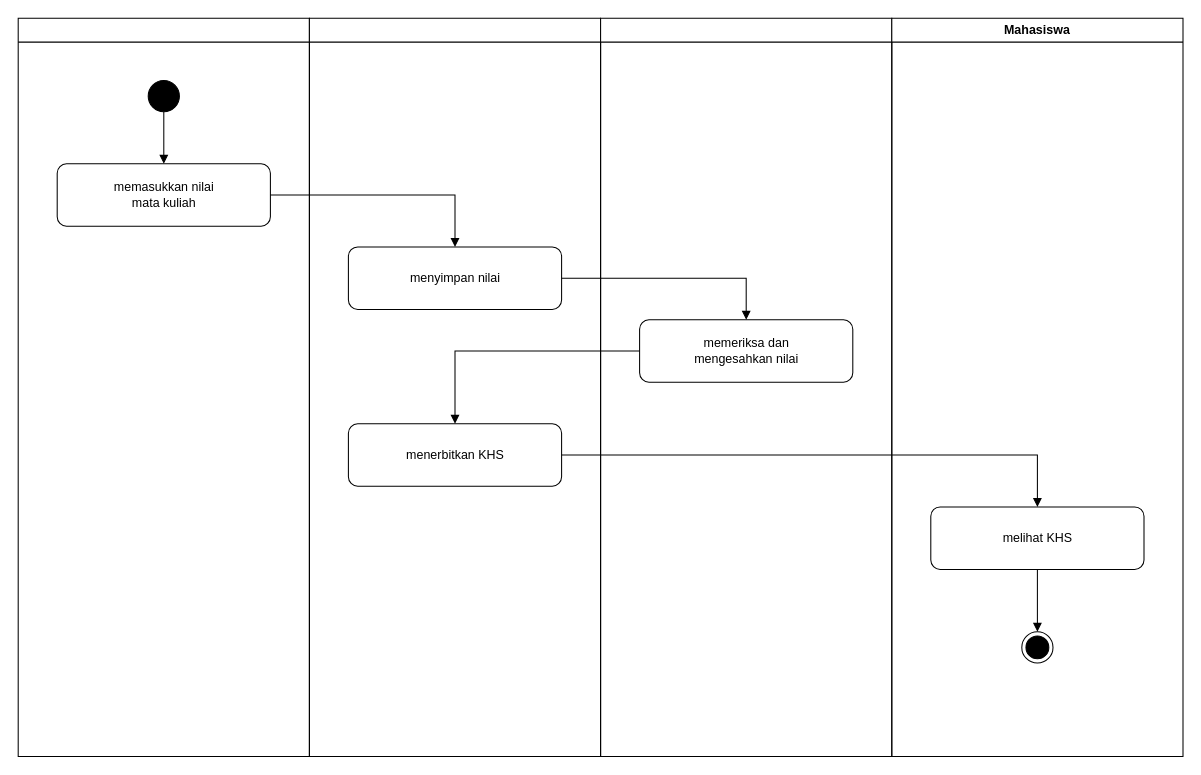
This 1201x775 diagram has some shape labels left out. The shapes that lost their labels are listed below. From the top down, each one's box as (x1, y1, x2, y2) in pixels, then its label:
(17, 17, 309, 757): Dosen
(308, 17, 601, 757): Sistem
(600, 17, 892, 757): Admin Akademik
